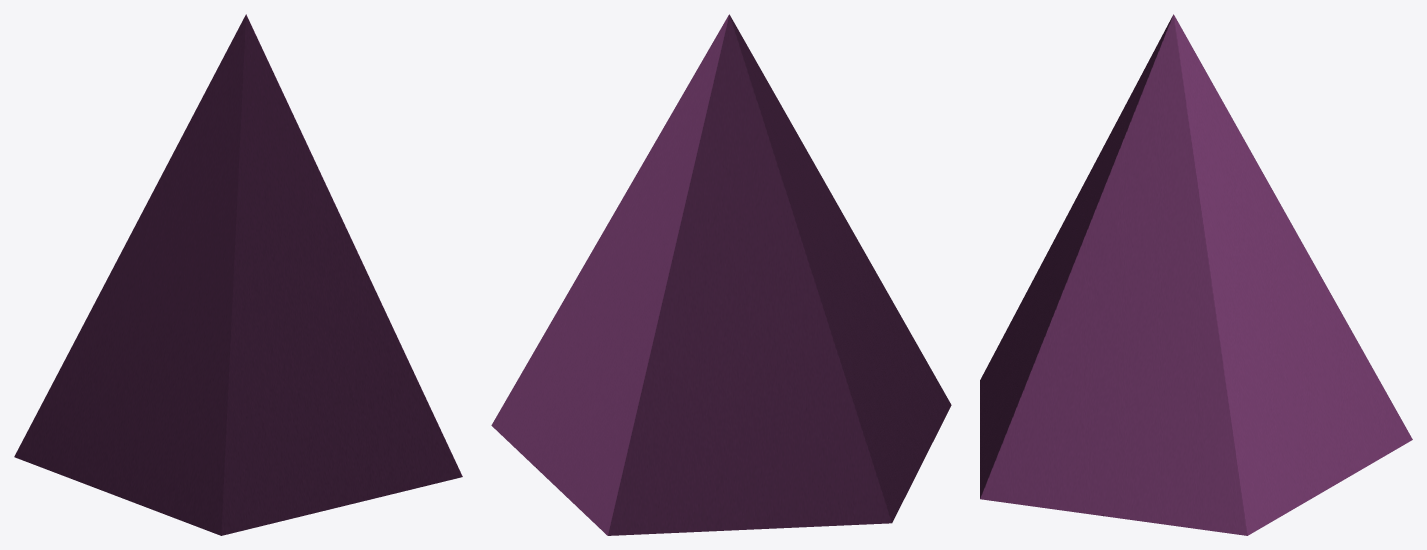
The picture shows the model from 3 angles, left to right: view 1: azimuth 30°, elevation 25°; view 2: azimuth 150°, elevation 25°; view 3: azimuth 270°, elevation 25°; orthographic projection. The views are drawn at different scales.
Parts seen in each view (by area): view 1: Cone; view 2: Cone; view 3: Cone.
Boxes of the visible parts, left/top/right/bottom form: Cone: left=14, top=14, right=462, bottom=535; Cone: left=491, top=14, right=951, bottom=535; Cone: left=980, top=14, right=1412, bottom=535.
Size of the model in its own units: 1.56 by 1.61 by 1.48.
Materials: 1 (1 with a texture image).
